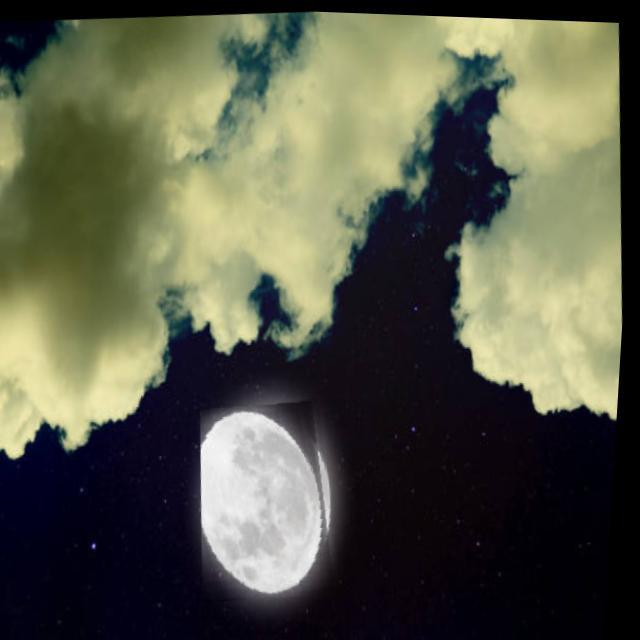moon: (195, 393, 351, 601)
